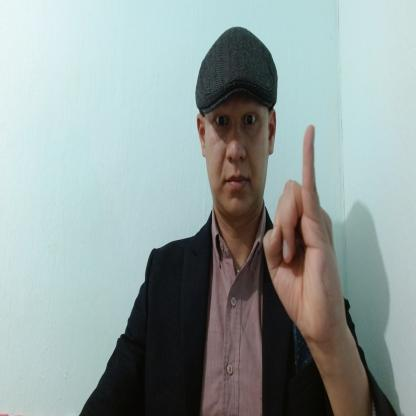I: (261, 122, 342, 344)
